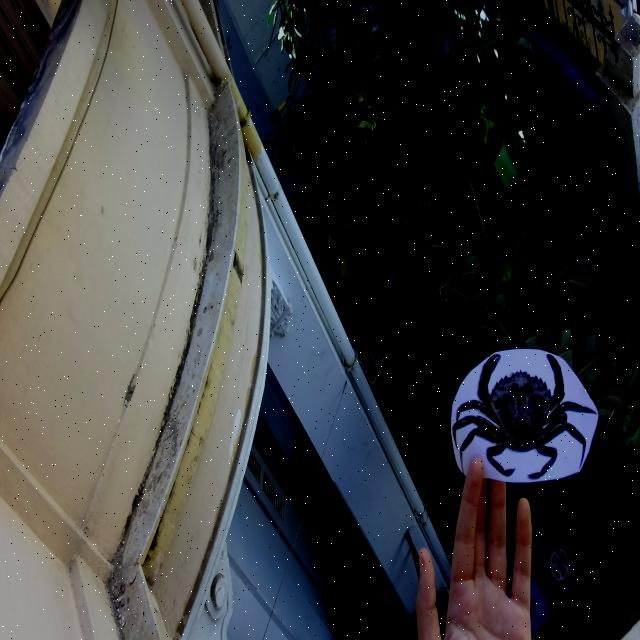European_Green_Crab: (451, 349, 598, 484)
